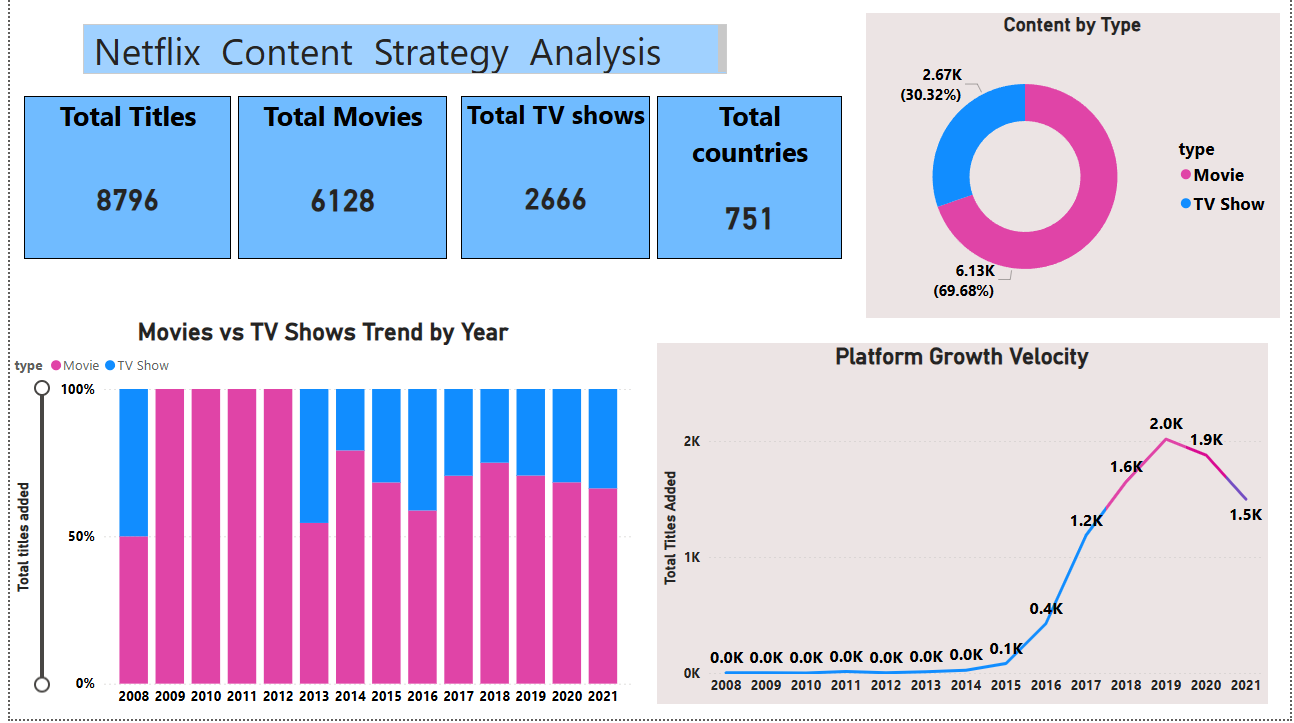

The dashboard page shown, as its layout file describes it:
{"tool":"powerbi","page":{"name":"Executive Summary","canvas":[1280,720],"ordinal":0},"visuals":[{"type":"card","title":"Total Titles","fields":{"Values":["CountNonNull(netflix_cleaned.title)"]},"box":[14.1,96.8,206.6,163.3],"z":0},{"type":"card","title":"Total Movies","fields":{"Values":["netflix_cleaned.Total Movies"]},"box":[227.8,96.8,209.6,163.3],"z":1},{"type":"card","title":"Total TV shows","fields":{"Values":["netflix_cleaned.Total TV Shows"]},"box":[450.5,96.8,189.5,163.3],"z":2},{"type":"card","title":"Total countries","fields":{"Values":["netflix_cleaned.Total Countries"]},"box":[647.5,96.7,184.5,163],"z":3},{"type":"hundredPercentStackedColumnChart","title":"Movies vs TV Shows Trend by Year","fields":{"Category":["netflix_cleaned.year_added"],"Series":["netflix_cleaned.type"],"Y":["CountNonNull(netflix_cleaned.title)"]},"box":[0,284.2,626.9,397.1],"z":4},{"type":"lineChart","title":"Platform Growth Velocity","fields":{"Category":["netflix_cleaned.year_added"],"Y":["CountNonNull(netflix_cleaned.title)"]},"box":[660.9,336.8,619.1,383.3],"z":5},{"type":"donutChart","title":"Content by Type","fields":{"Category":["netflix_cleaned.type"],"Y":["CountNonNull(netflix_cleaned.title)"]},"box":[866,15.2,413.7,304.5],"z":6},{"type":"textbox","box":[72.5,25.1,644.8,50.1],"z":7}]}

Visuals, with their boxes in screenshot pixels (x1, y1, x2, y2), scaled from the page's 1280x720 canvas onto the 1294x723 screenshot:
"Total Titles" card: 14, 97, 223, 261
"Total Movies" card: 230, 97, 442, 261
"Total TV shows" card: 455, 97, 647, 261
"Total countries" card: 655, 97, 841, 261
"Movies vs TV Shows Trend by Year" hundredPercentStackedColumnChart: 0, 285, 634, 684
"Platform Growth Velocity" lineChart: 668, 338, 1293, 722
"Content by Type" donutChart: 875, 15, 1293, 321
textbox: 73, 25, 725, 76
